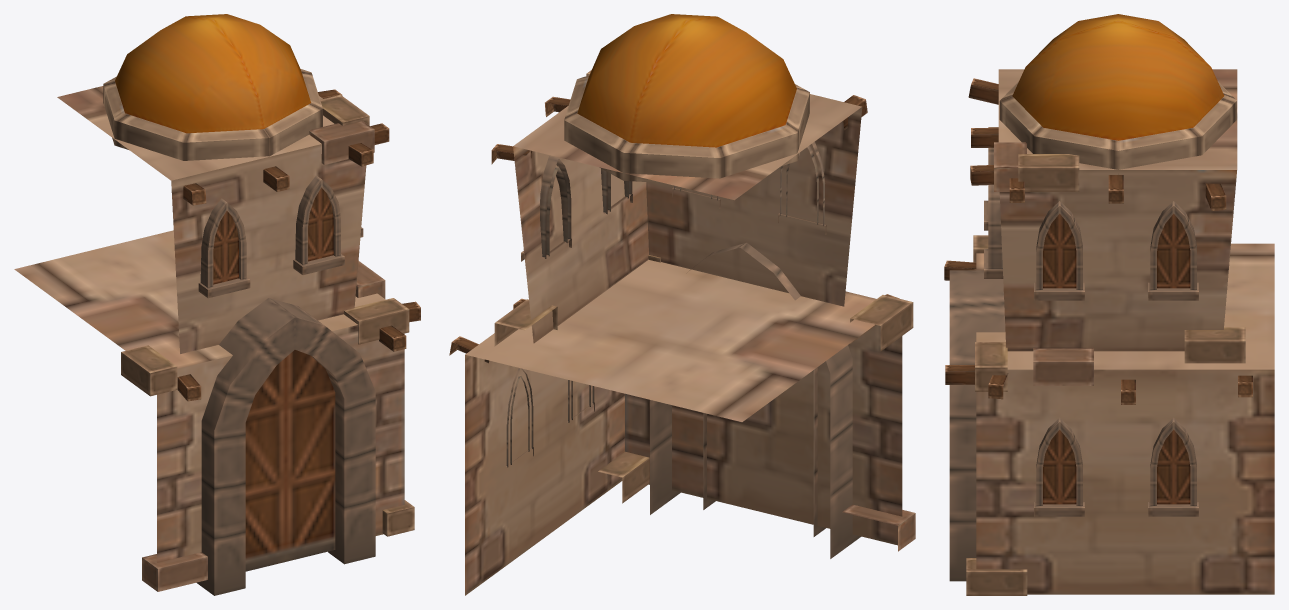
Rendered from mine_prop_2.FBX.
3 views of the same model, side by side, from view 1: azimuth 30°, elevation 25°; view 2: azimuth 150°, elevation 25°; view 3: azimuth 270°, elevation 25° (orthographic). The views are drawn at different scales.
Parts seen in each view (by area): view 1: mine_prop_2; view 2: mine_prop_2; view 3: mine_prop_2.
Boxes of the visible parts, bbox=[...] form: mine_prop_2: bbox=[14, 14, 420, 595]; mine_prop_2: bbox=[449, 14, 915, 595]; mine_prop_2: bbox=[944, 14, 1274, 595].
Size of the model in its own units: 91.26 by 155 by 89.25.
